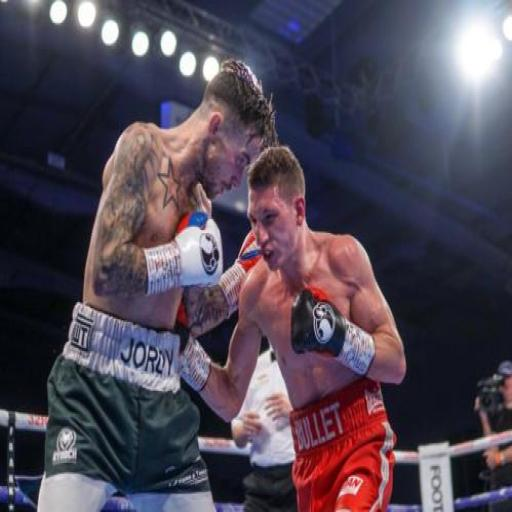boxing: (32, 57, 278, 510), (215, 135, 421, 509)
